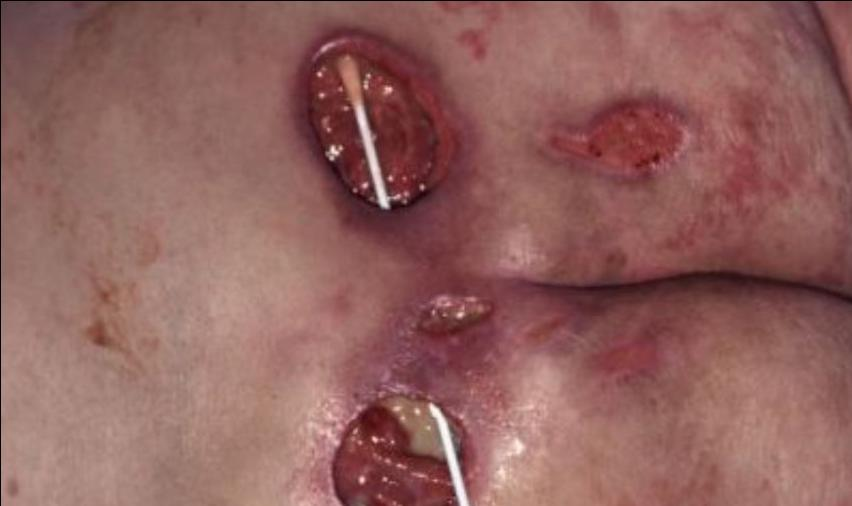Stage2: (511, 86, 719, 208)
